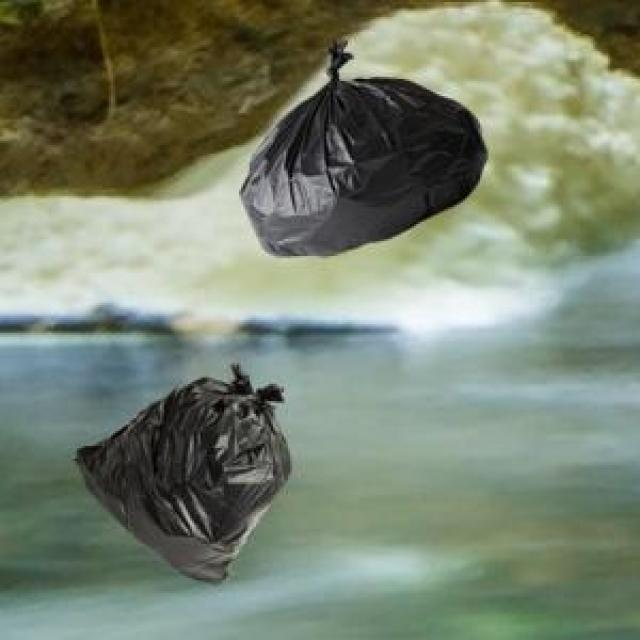miscellaneous trash: (237, 36, 482, 254), (70, 361, 286, 580)
